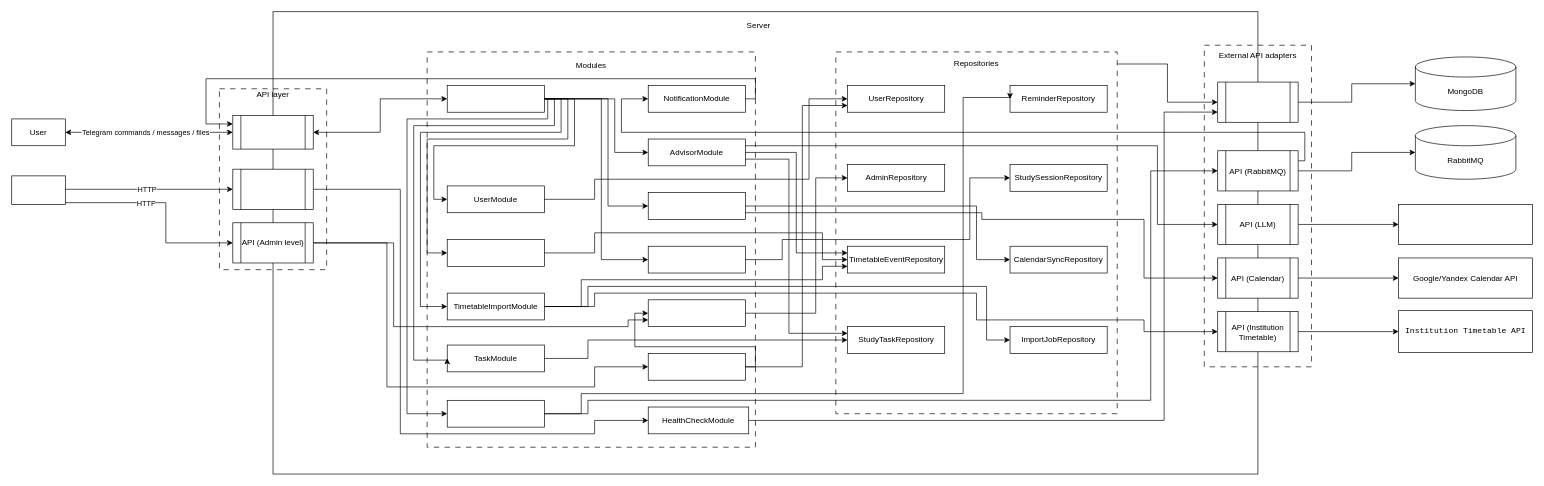
The diagram is 1544 pixels wide and 486 high, and some of its shapes have lost their labels. Here are the shapes that lost their labels. From the top down, the centre of each, then its label:
At point 495,98: "MessageHandlerModule".
At point 1257,101: "API (MongoDB)".
At point 272,132: "API (Telegram message handlers)".
At point 38,189: "Admin".
At point 272,189: "API (Healthcheck)".
At point 696,205: "CalendarSyncModule".
At point 1465,224: "LLM API".
At point 495,252: "TimetableModule".
At point 696,259: "StudySessionModule".
At point 696,313: "AdminAuthModule".
At point 696,366: "ListUsersModule".
At point 495,413: "ReminderModule".
